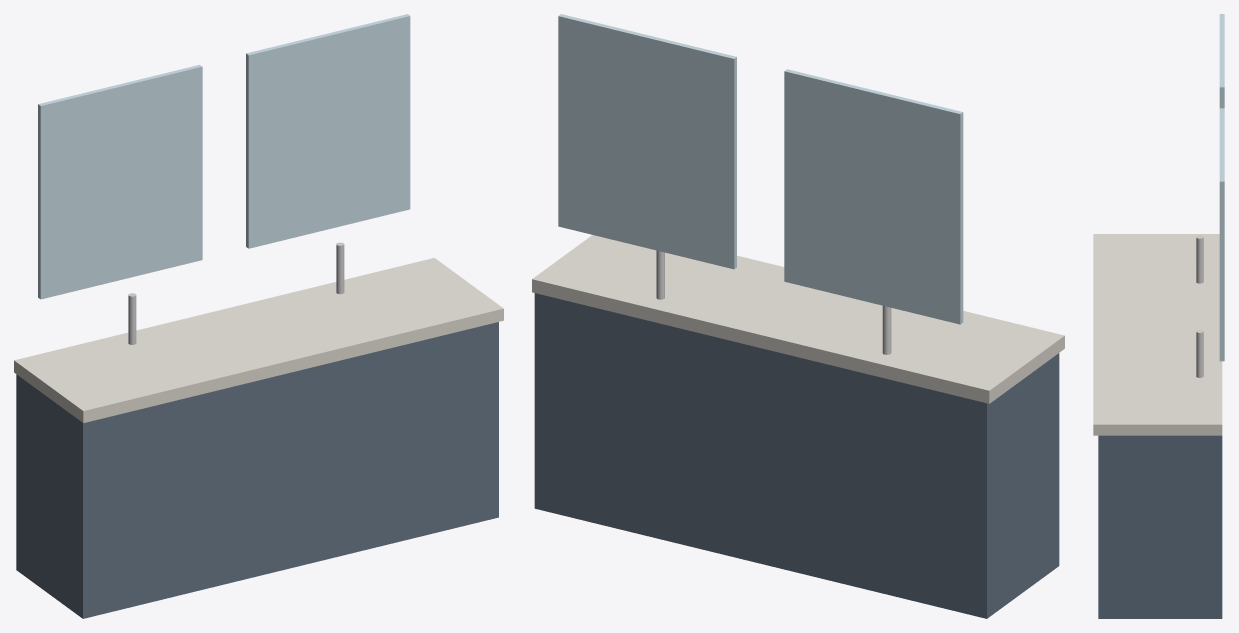
File: doubleVanity.glb
3 renders of one model, left to right at view 1: azimuth 30°, elevation 25°; view 2: azimuth 150°, elevation 25°; view 3: azimuth 270°, elevation 25°, orthographic. The views are drawn at different scales.
Parts seen in each view (by area): view 1: doubleVanity; view 2: doubleVanity; view 3: doubleVanity.
Boxes of the visible parts, box(x1,y1,x2,y2) form: doubleVanity: box(14, 14, 503, 618); doubleVanity: box(532, 14, 1064, 618); doubleVanity: box(1093, 14, 1224, 618).
Bounding box in the file's own units: 1.82 × 1.9 × 0.53.
